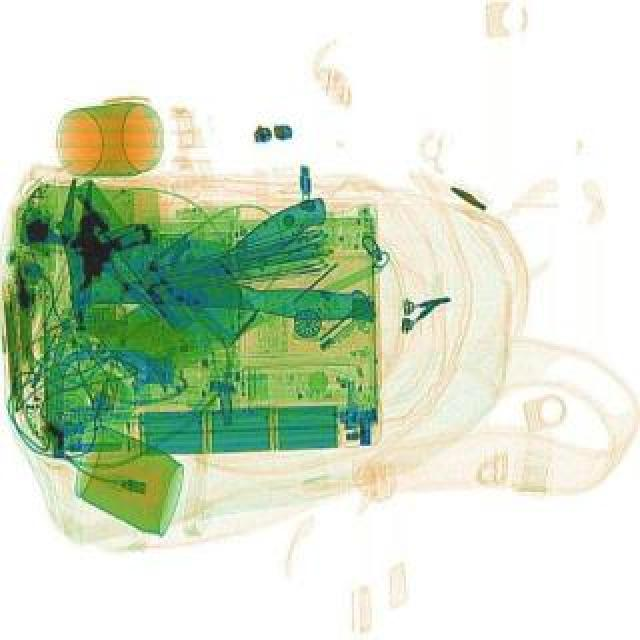knife: (92, 192, 366, 400), (66, 234, 378, 326)
